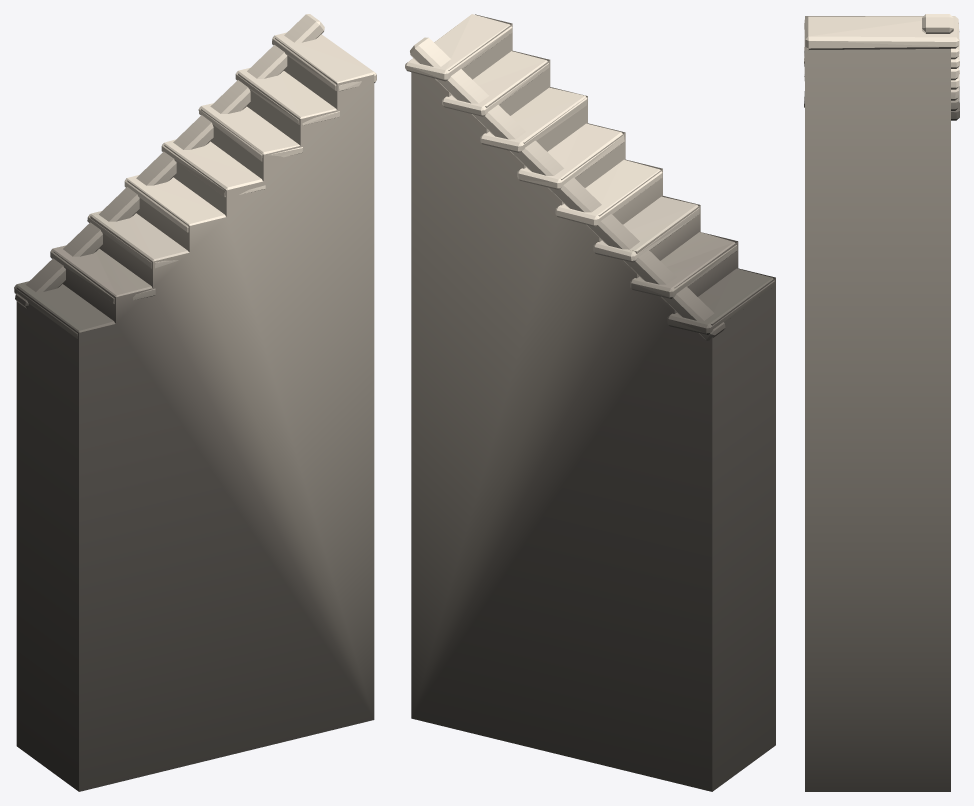
The model's file is SM_VK_TownWall_Stair.fbx.
The picture shows the model from 3 angles, left to right: view 1: azimuth 30°, elevation 25°; view 2: azimuth 150°, elevation 25°; view 3: azimuth 270°, elevation 25°; orthographic projection. The views are drawn at different scales.
Parts seen in each view (by area): view 1: SM_VK_TownWall_Stair.001; view 2: SM_VK_TownWall_Stair.001; view 3: SM_VK_TownWall_Stair.001.
Part boxes in pixels (<box>): SM_VK_TownWall_Stair.001: <box>14,14,376,791</box>; SM_VK_TownWall_Stair.001: <box>405,14,775,791</box>; SM_VK_TownWall_Stair.001: <box>804,14,959,791</box>.
Size of the model in its own units: 3.07 by 6.43 by 1.17.
